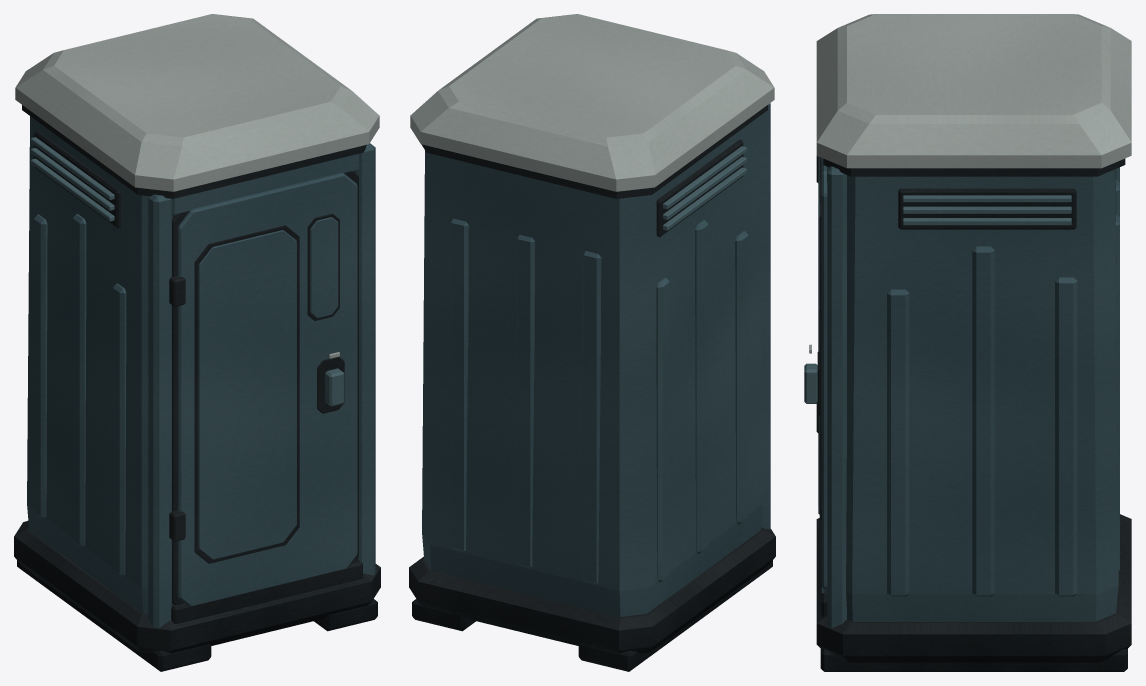
The model's file is Portable_SiteToilet.fbx.
3 renders of one model, left to right at view 1: azimuth 30°, elevation 25°; view 2: azimuth 150°, elevation 25°; view 3: azimuth 270°, elevation 25°, orthographic. The views are drawn at different scales.
Parts seen in each view (by area): view 1: Portable_SiteToilet; view 2: Portable_SiteToilet; view 3: Portable_SiteToilet.
Part boxes in pixels (x1=…): Portable_SiteToilet: x1=14, y1=14, x2=380, y2=671; Portable_SiteToilet: x1=409, y1=14, x2=775, y2=671; Portable_SiteToilet: x1=804, y1=14, x2=1131, y2=671.
Bounding box in the file's own units: 1.14 × 2.32 × 1.25.
1 material, 1 textured.
